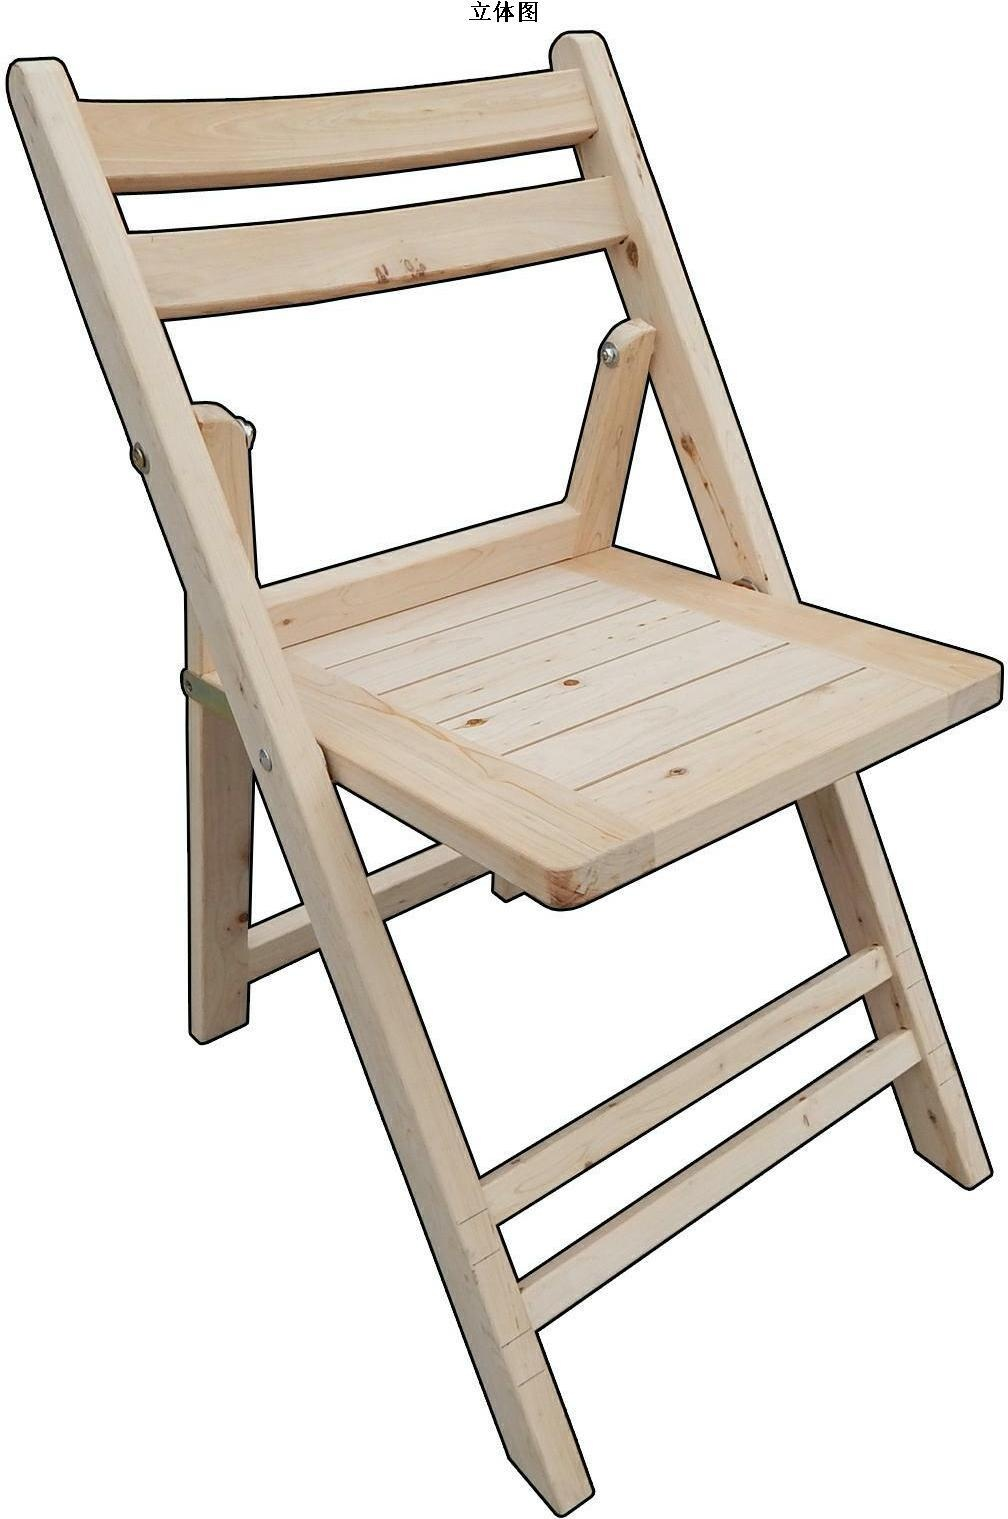obstacle: (6, 141, 1000, 1518), (7, 0, 1000, 650)
